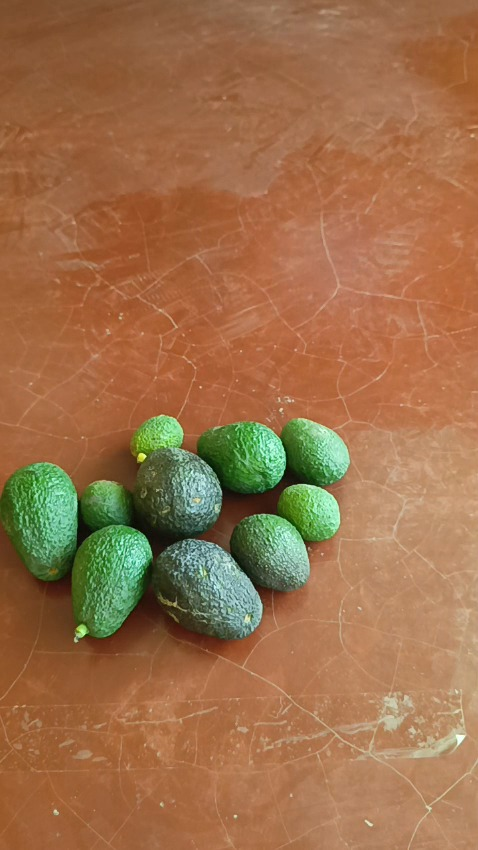Primera: (151, 538, 262, 639), (70, 524, 154, 639), (0, 461, 79, 581), (132, 448, 224, 539), (196, 421, 286, 493)
Segunda: (228, 513, 309, 592), (279, 418, 349, 486)
Tercera: (276, 482, 339, 542), (80, 479, 134, 532), (130, 415, 183, 462)
